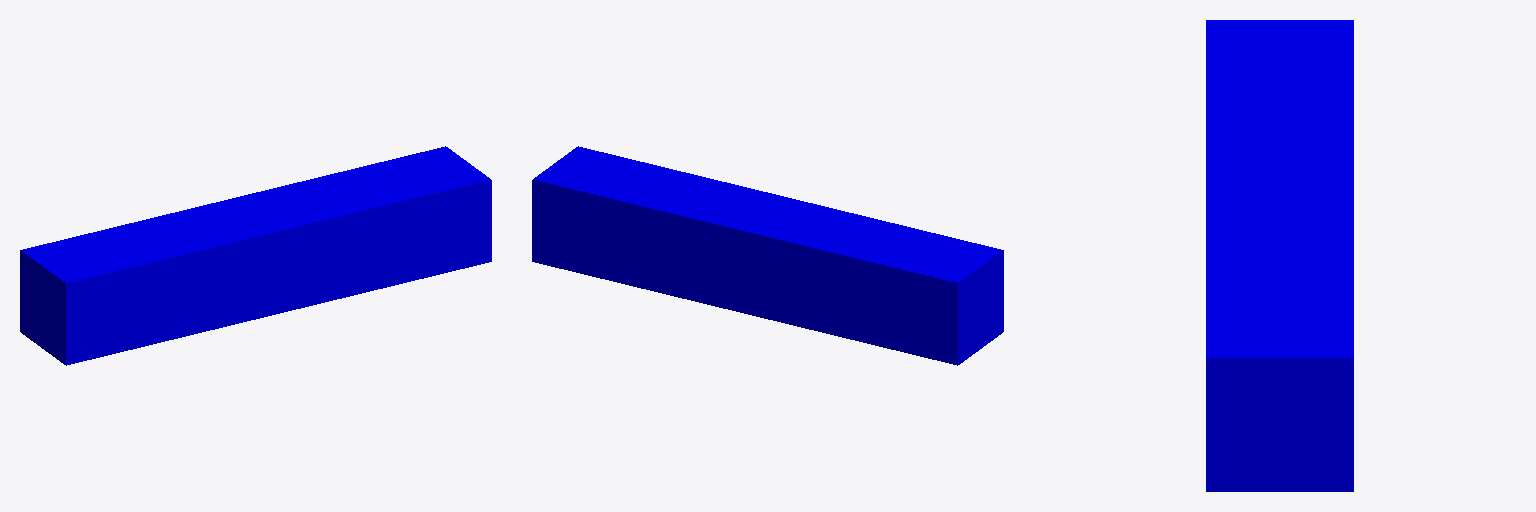
URDF robot description (board1_block4):
<?xml version="1.0"?>
<robot name="board1_block4">
    <link name="board1_block4">
        <visual>
            <origin xyz="0 0 0 " rpy=" 0 0 0"/>
            <geometry>
                <mesh filename="./MOMO_Board1_Block4.stl" scale="0.001 0.001 0.001"/>
            </geometry>
            <material name="red">
                <color rgba="0.0 0.0 1.0 1.0"/>
            </material>
        </visual>
        <collision>
            <origin xyz="0 0 0" rpy="0 0 0"/>
            <geometry>
                <mesh filename="./MOMO_Board1_Block4.stl" scale="0.001 0.001 0.001"/>
            </geometry>
        </collision>
    </link>
</robot>

--- What the picture shows (computed from the rendered views, not written in the file) ---
3 views of the same robot in one strip: view 1: azimuth 30°, elevation 25°; view 2: azimuth 150°, elevation 25°; view 3: azimuth 270°, elevation 25° (orthographic).
Model board1_block4 with 1 links and 0 joints (none), rooted at board1_block4, posed all joints at 0.
Visible links, largest first — view 1: board1_block4; view 2: board1_block4; view 3: board1_block4.
Boxes of the visible links, left/top/right/bottom form: board1_block4: left=20, top=146, right=491, bottom=365; board1_block4: left=532, top=146, right=1003, bottom=365; board1_block4: left=1206, top=20, right=1353, bottom=491.
Bounding box of the posed robot: 0.2 × 0.037 × 0.037 m (x, y, z).
Meshes: 1 distinct files referenced, 1 mesh visuals loaded (1 ASCII STL).